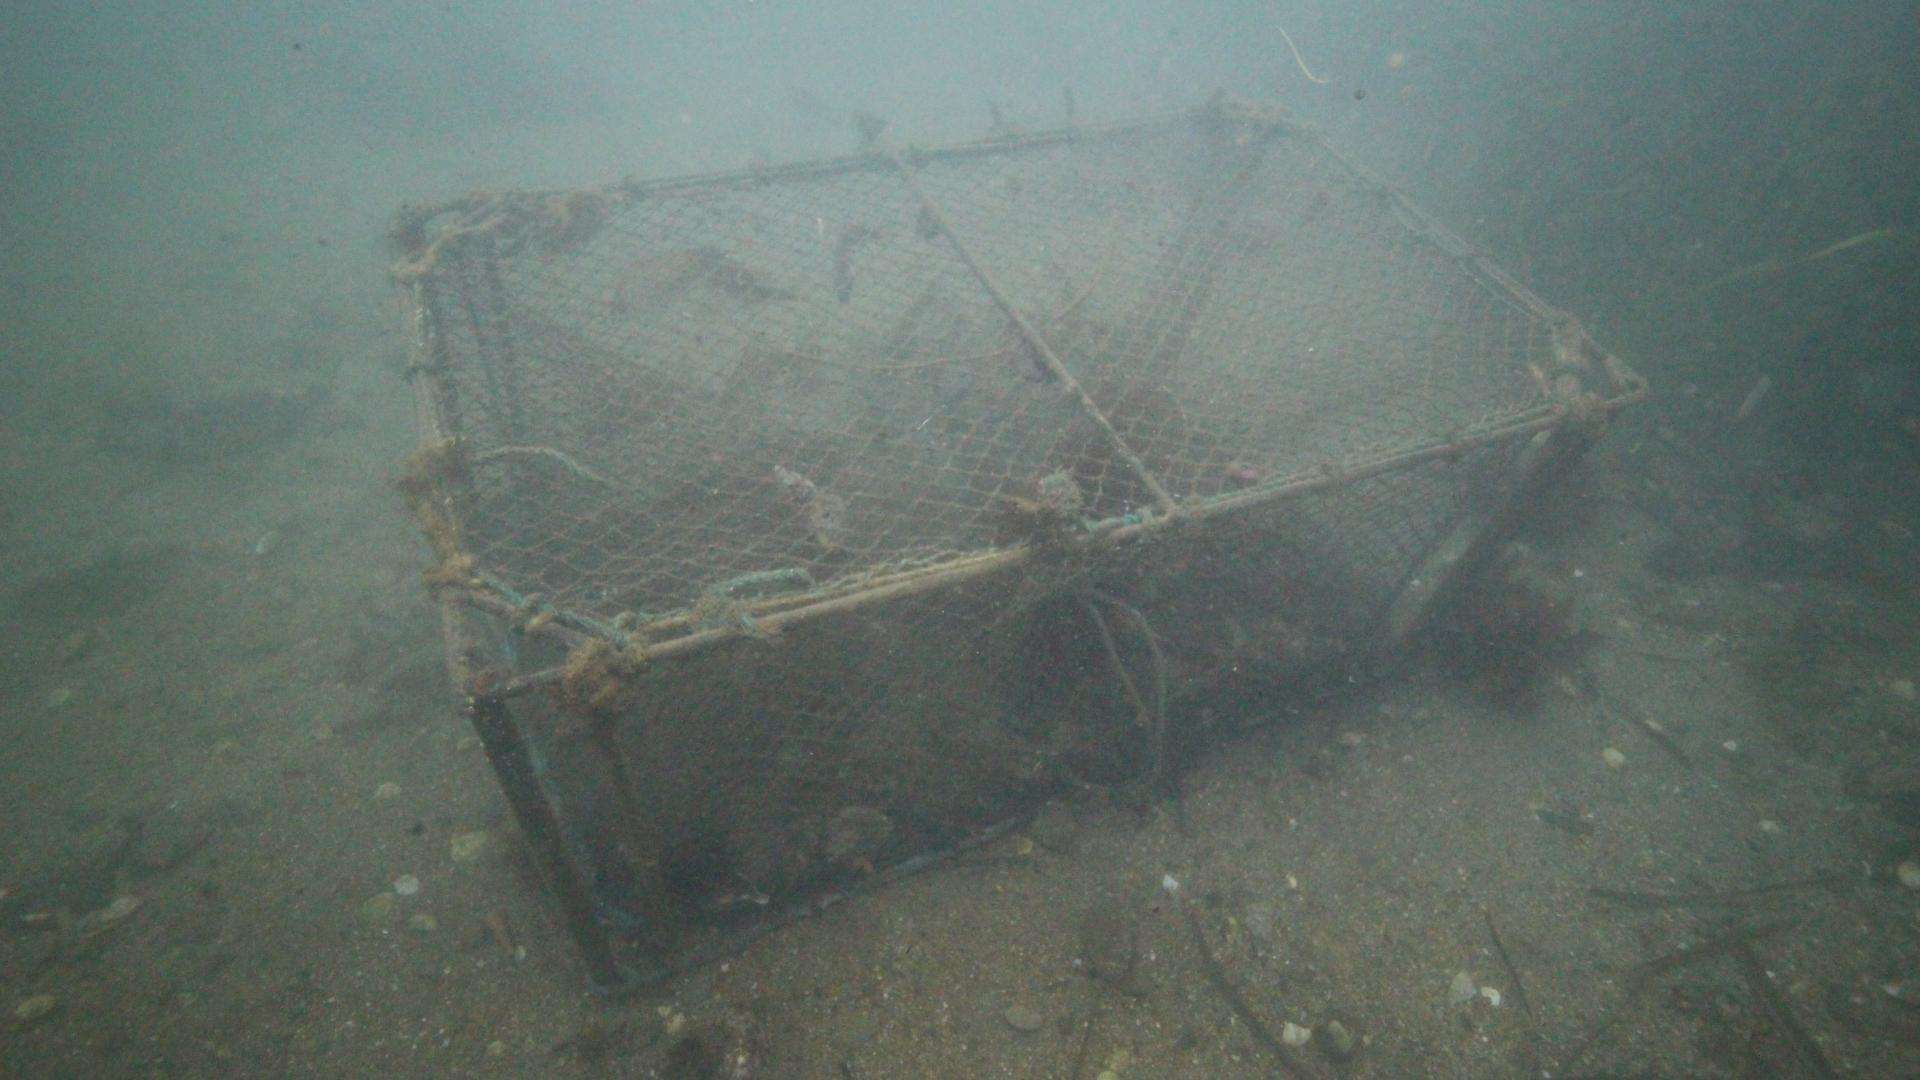rectangular fish trap: (385, 104, 1658, 998)
